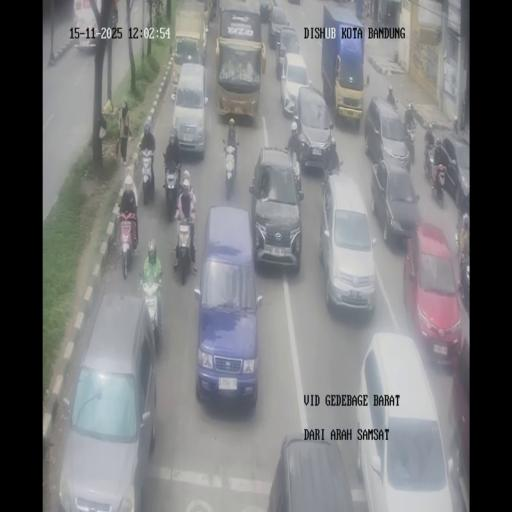3: (214, 2, 266, 123), (321, 2, 367, 128)
car: (57, 293, 156, 506), (355, 334, 457, 510), (195, 207, 262, 404), (404, 224, 462, 366), (320, 174, 377, 317), (265, 432, 358, 510), (250, 147, 303, 271), (371, 156, 420, 244), (293, 84, 337, 174), (365, 96, 411, 173), (172, 62, 208, 156), (72, 1, 116, 53), (268, 4, 292, 50), (257, 0, 272, 22)
truck: (138, 277, 163, 347), (173, 218, 196, 283), (118, 214, 138, 278), (162, 161, 182, 221), (221, 135, 240, 197), (138, 147, 156, 205), (458, 248, 470, 314), (430, 159, 446, 204), (404, 122, 416, 165), (326, 138, 341, 172), (423, 134, 435, 172), (292, 156, 302, 196), (321, 163, 333, 195), (406, 101, 420, 128), (448, 114, 464, 136), (180, 169, 191, 193), (386, 92, 399, 112), (209, 0, 217, 20)
